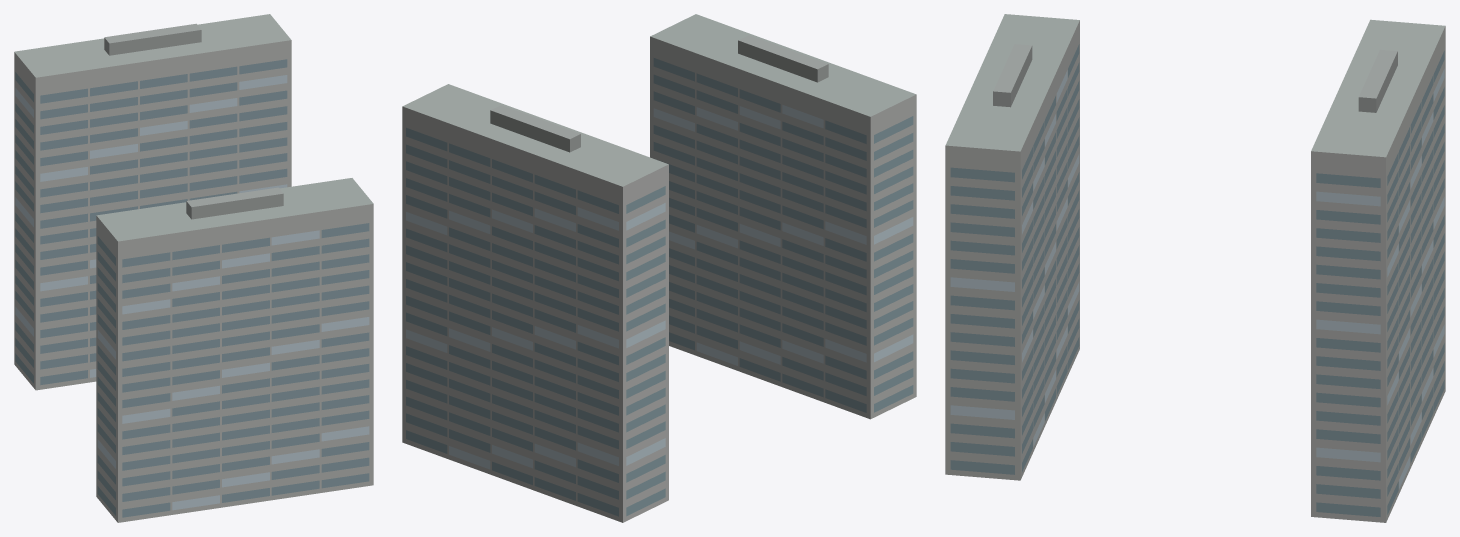
Rendered from apt-a15009606.glb.
The picture shows the model from 3 angles, left to right: view 1: azimuth 30°, elevation 25°; view 2: azimuth 150°, elevation 25°; view 3: azimuth 270°, elevation 25°; orthographic projection. The views are drawn at different scales.
Visible parts, largest first — view 1: apt-a15009606; view 2: apt-a15009606; view 3: apt-a15009606.
Boxes of the visible parts, left/top/right/bottom form: apt-a15009606: left=14, top=14, right=373, bottom=522; apt-a15009606: left=402, top=14, right=916, bottom=522; apt-a15009606: left=945, top=14, right=1445, bottom=522.
Size of the model in its own units: 64.36 by 63.4 by 75.61.
